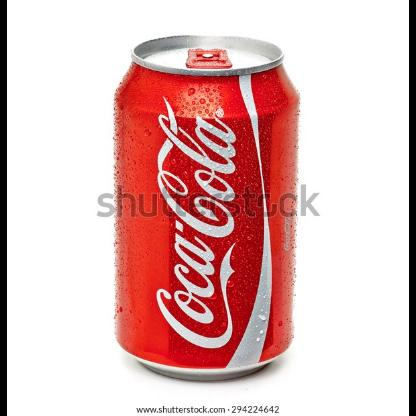Tin_Can: (110, 29, 312, 387)
